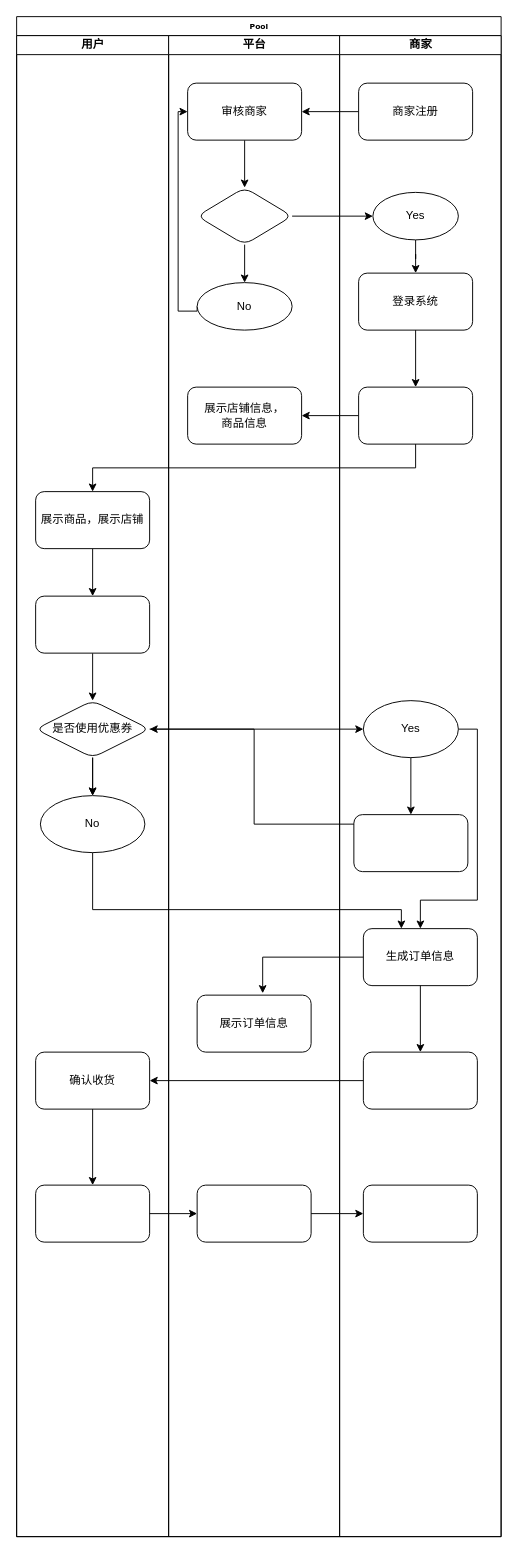
Some shapes in this 518 by 1553 pixel diagram are drawn without their labels. The shapes that lost their labels are listed below. From the top down, each one's centre as x and y in pixels, then its label:
At point (244, 216): "是否通过".
At point (415, 415): "创建商品，基础设置".
At point (92, 624): "用户下单".
At point (410, 843): "显示折扣价".
At point (419, 1080): "接单派送".
At point (92, 1213): "进行评价".
At point (253, 1213): "评价回复".
At point (419, 1213): "评价信息".
